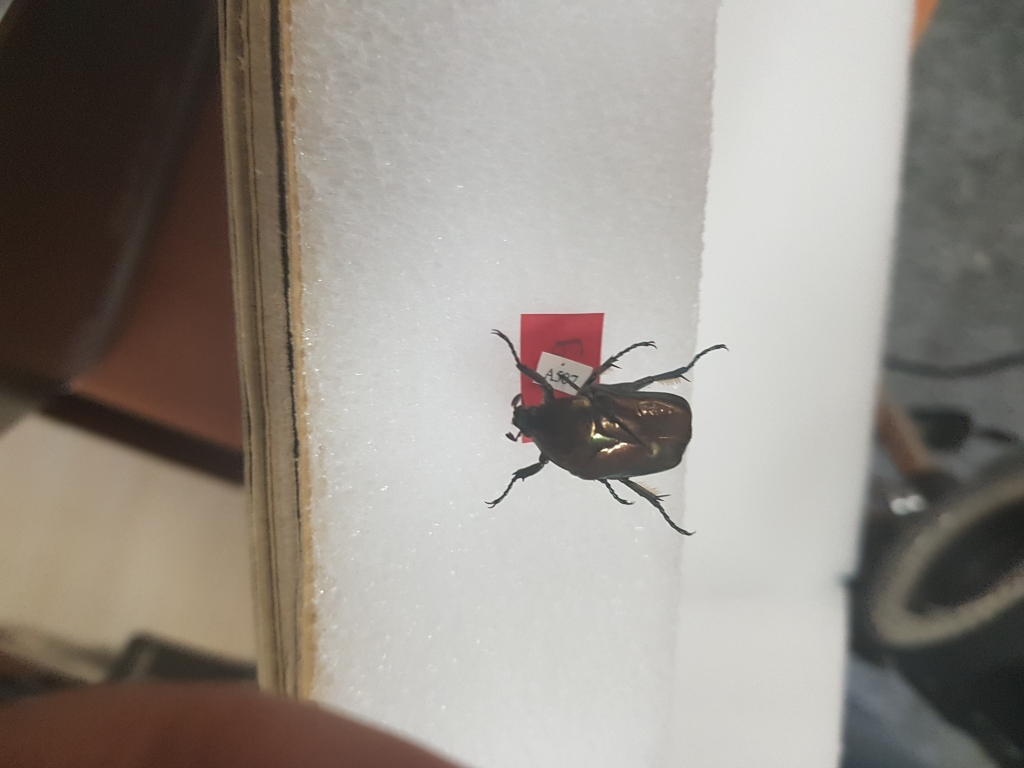Protaetia_besucheti: (465, 314, 734, 541)
